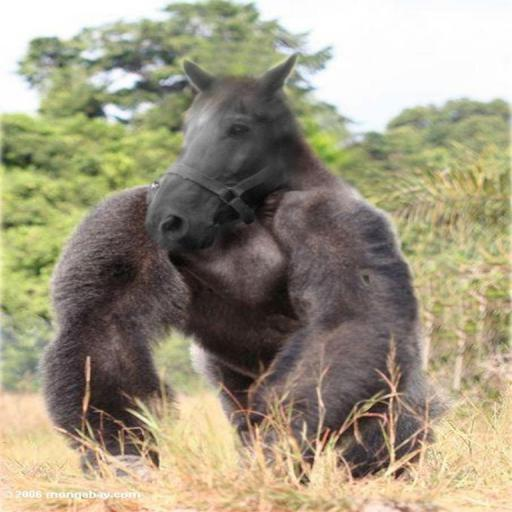Horse: (36, 51, 448, 480)
